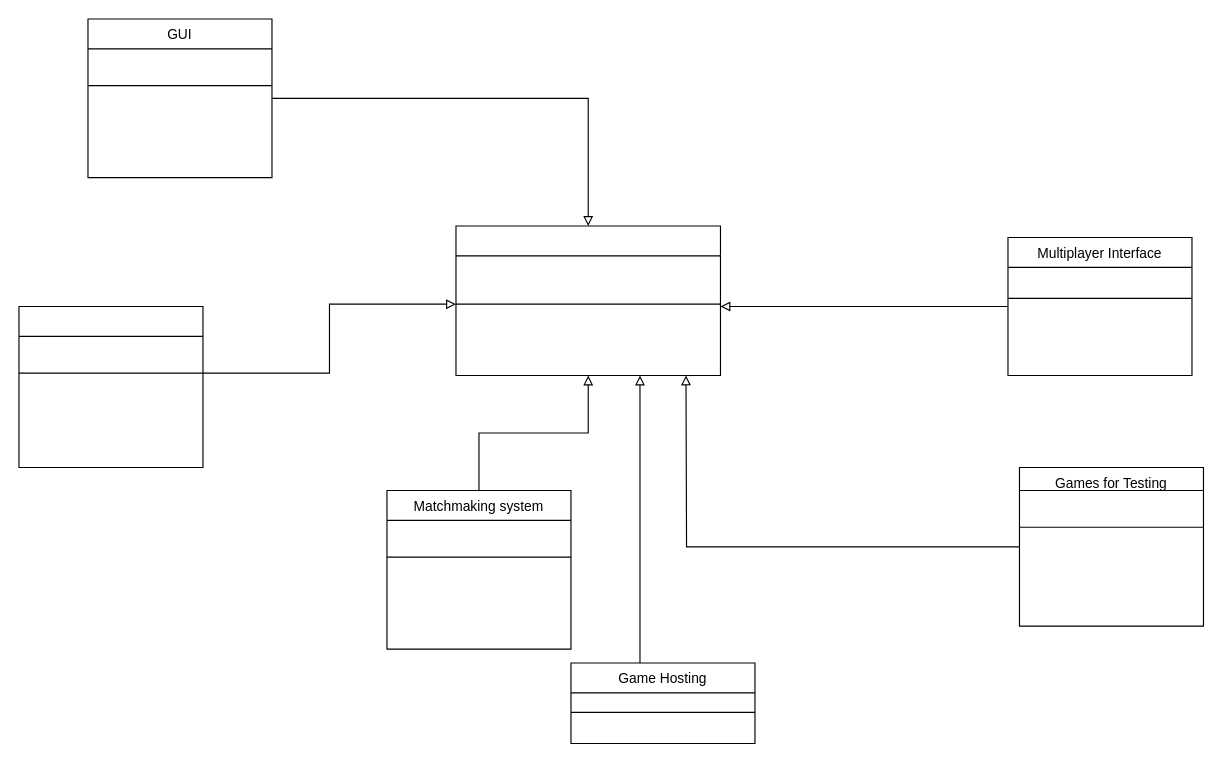
Some shapes in this 1222 by 762 pixel diagram are drawn without their labels. The shapes that lost their labels are listed below. From the top down, each one's centre as x and y in pixels, then its label:
At point (587, 300): "Multiplayer Platform for board games".
At point (110, 386): "Design Architecture".
